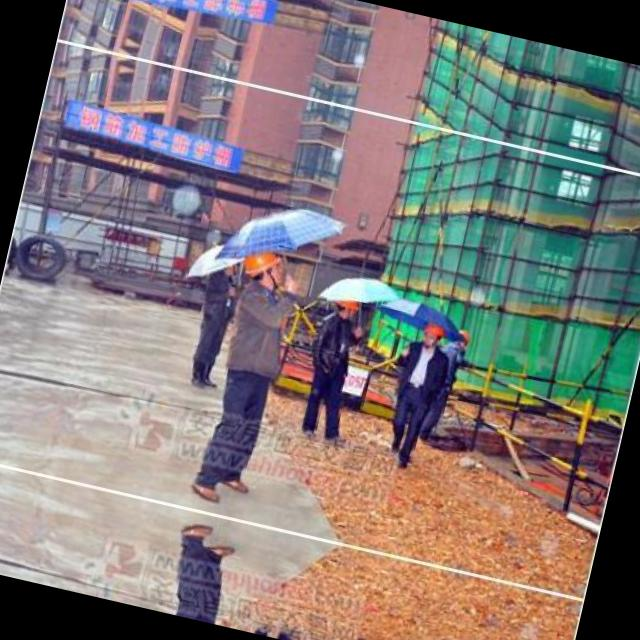helmet: (236, 247, 288, 293), (418, 318, 447, 351), (334, 292, 362, 323), (449, 321, 474, 350)
